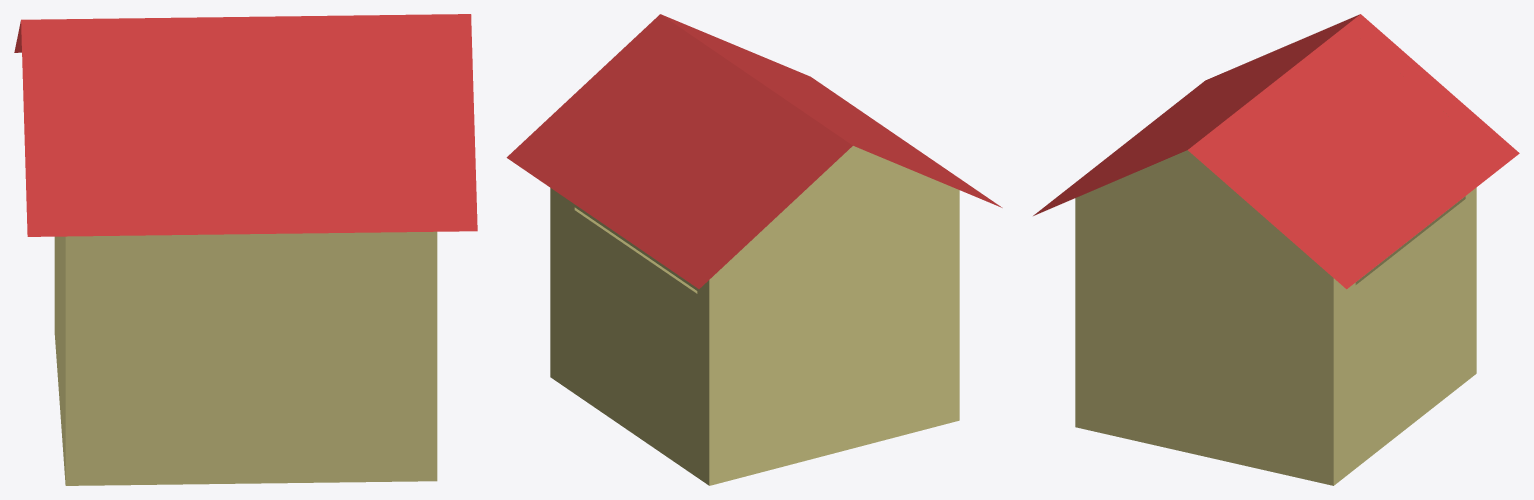
3 renders of one model, left to right at view 1: azimuth 30°, elevation 25°; view 2: azimuth 150°, elevation 25°; view 3: azimuth 270°, elevation 25°, orthographic. The views are drawn at different scales.
Size of the model in its own units: 15.43 by 15.32 by 11.02.
